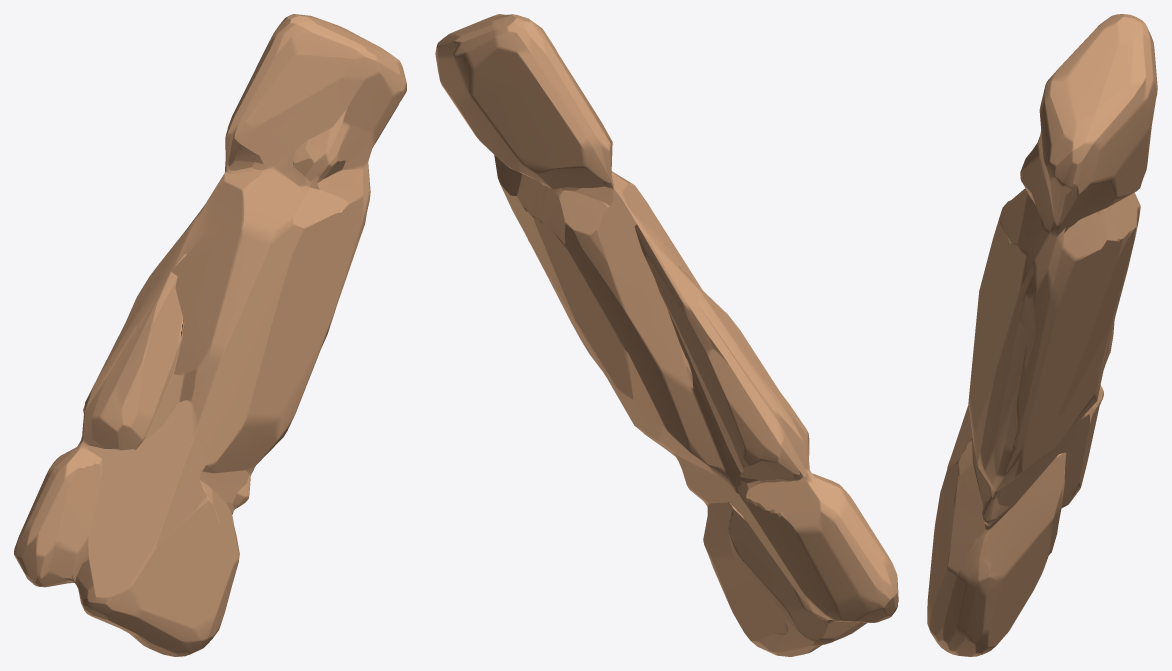
3 views of the same model, side by side, from view 1: azimuth 30°, elevation 25°; view 2: azimuth 150°, elevation 25°; view 3: azimuth 270°, elevation 25° (orthographic). The views are drawn at different scales.
Visible parts, largest first — view 1: Mesh_99_LOD0; view 2: Mesh_99_LOD0; view 3: Mesh_99_LOD0.
Part boxes in pixels (<box>): Mesh_99_LOD0: <box>14,14,406,656</box>; Mesh_99_LOD0: <box>435,14,898,656</box>; Mesh_99_LOD0: <box>927,14,1157,656</box>.
Size of what is drawn, in the model's own units: 1515 by 2038 by 566.
